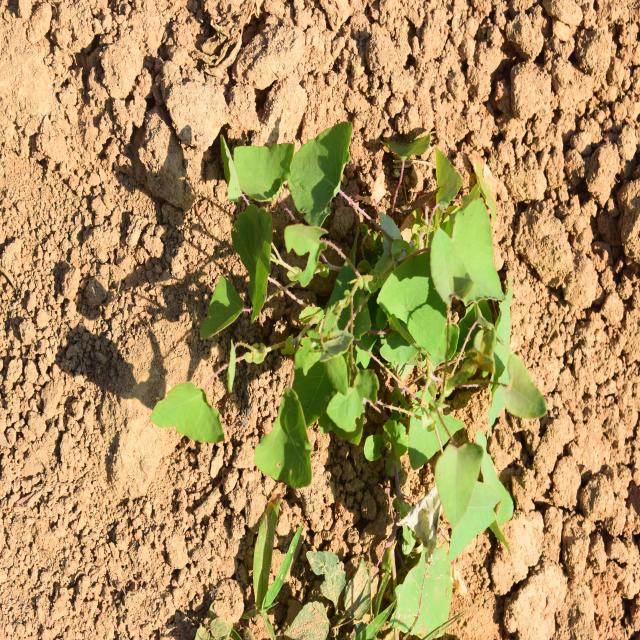Asiatic_Smartweed: (180, 116, 376, 479), (368, 137, 527, 541)
